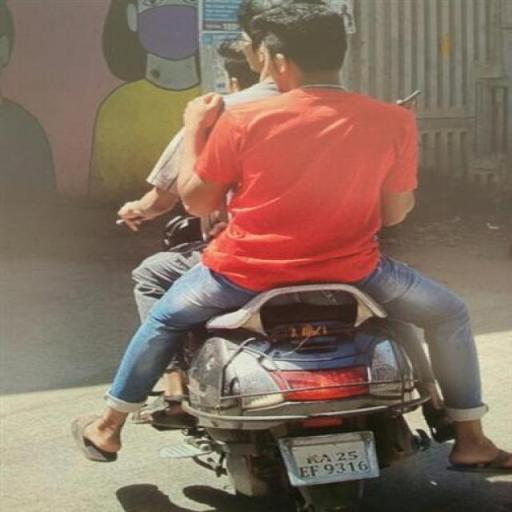tripple riding: (112, 2, 438, 280)
